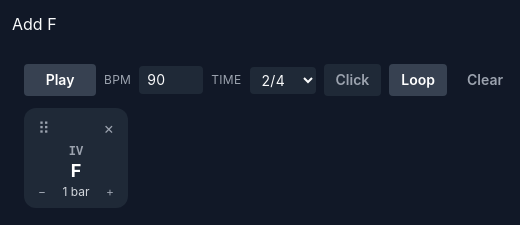
Test: length stepper in 2/4 › stops at the shortest allowed length
The width and height of the screenshot is (520, 225).
Click the button named "Shorter F": {"x": 42, "y": 192} [32, 184, 52, 200]
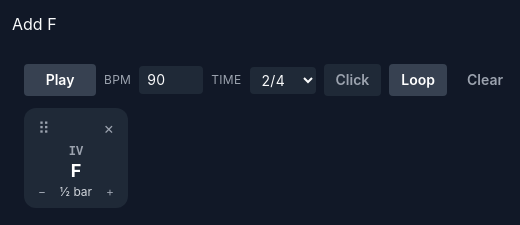
expect the text "½ bar" is shown: met, box [60, 184, 92, 200]
